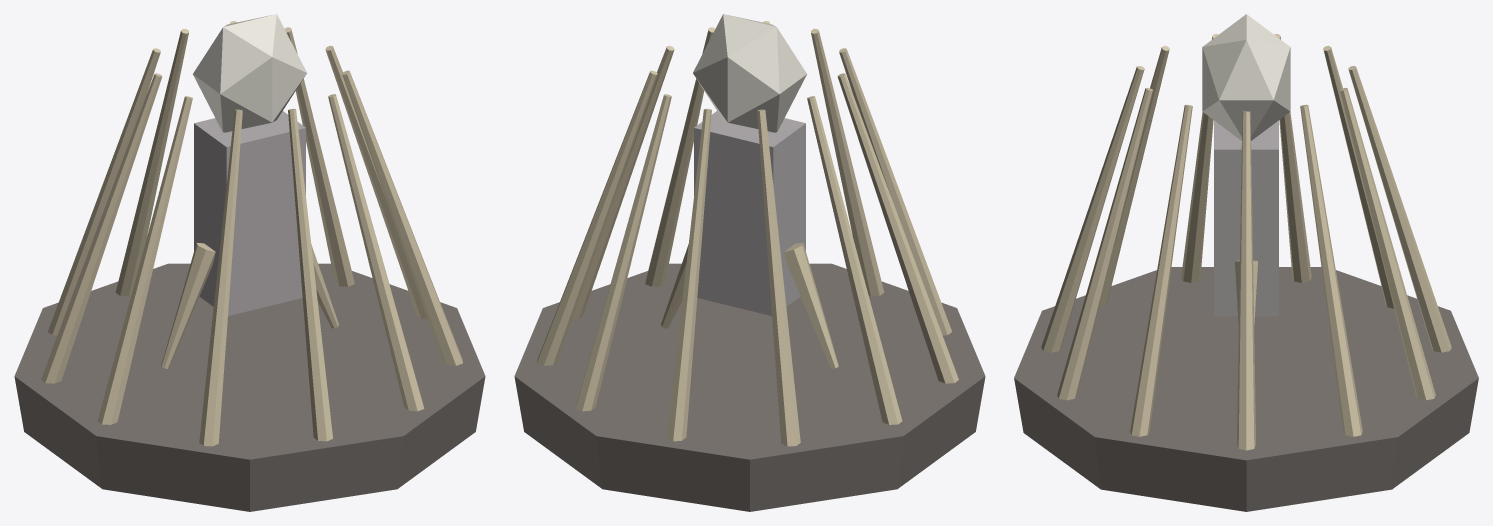
File: wicker_doll_shrine.glb
3 renders of one model, left to right at view 1: azimuth 30°, elevation 25°; view 2: azimuth 150°, elevation 25°; view 3: azimuth 270°, elevation 25°, orthographic.
Visible parts, largest first — view 1: wicker_doll_shrine_material_00, wicker_doll_shrine_material_01, wicker_doll_shrine_material_03, wicker_doll_shrine_material_02; view 2: wicker_doll_shrine_material_00, wicker_doll_shrine_material_01, wicker_doll_shrine_material_03, wicker_doll_shrine_material_02; view 3: wicker_doll_shrine_material_00, wicker_doll_shrine_material_01, wicker_doll_shrine_material_03, wicker_doll_shrine_material_02.
Boxes of the visible parts, <box> form: wicker_doll_shrine_material_00: <box>14,263,485,511</box>; wicker_doll_shrine_material_01: <box>41,21,462,446</box>; wicker_doll_shrine_material_03: <box>194,111,305,315</box>; wicker_doll_shrine_material_02: <box>193,14,306,132</box>; wicker_doll_shrine_material_00: <box>514,263,985,511</box>; wicker_doll_shrine_material_01: <box>537,21,958,446</box>; wicker_doll_shrine_material_03: <box>694,111,805,315</box>; wicker_doll_shrine_material_02: <box>693,14,806,132</box>; wicker_doll_shrine_material_00: <box>1014,267,1478,511</box>; wicker_doll_shrine_material_01: <box>1041,34,1451,450</box>; wicker_doll_shrine_material_03: <box>1214,120,1278,316</box>; wicker_doll_shrine_material_02: <box>1202,14,1290,140</box>.
Size of the model in its own units: 1.42 by 1.33 by 1.44.
